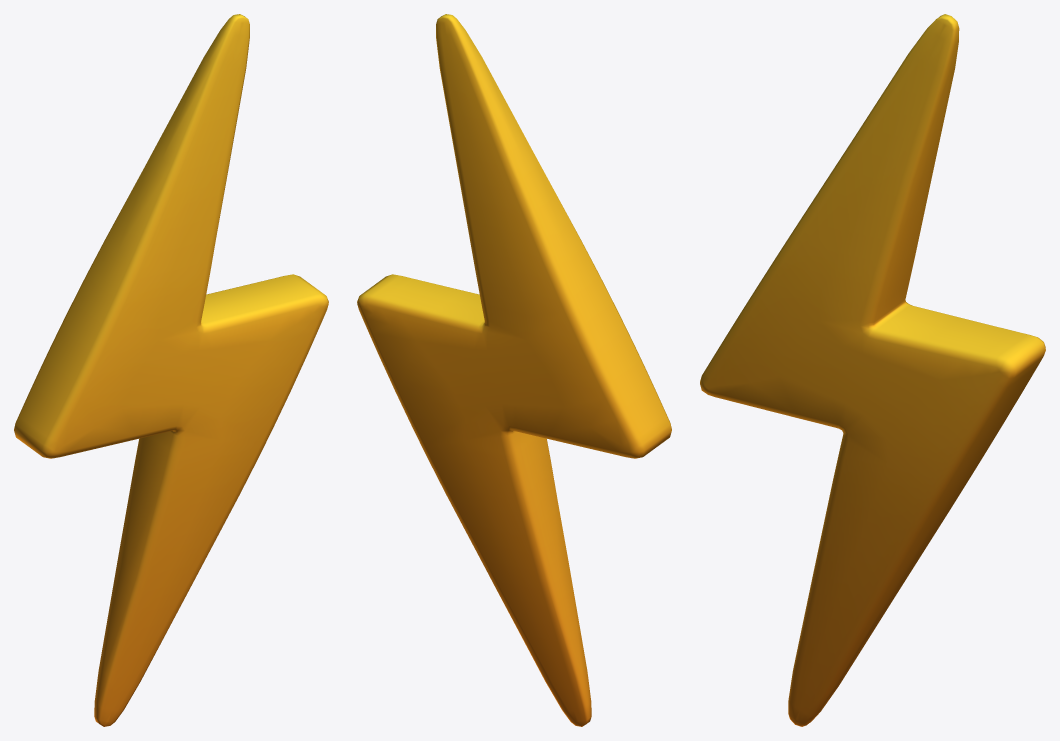
File: bolt.glb
3 views of the same model, side by side, from view 1: azimuth 30°, elevation 25°; view 2: azimuth 150°, elevation 25°; view 3: azimuth 330°, elevation 25° (orthographic). The views are drawn at different scales.
Parts seen in each view (by area): view 1: LightningSymbol.001; view 2: LightningSymbol.001; view 3: LightningSymbol.001.
Boxes of the visible parts, x1=… form: LightningSymbol.001: x1=14, y1=14, x2=328, y2=726; LightningSymbol.001: x1=357, y1=14, x2=671, y2=726; LightningSymbol.001: x1=700, y1=14, x2=1045, y2=726.
Size of the model in its own units: 2.28 by 5.12 by 0.5118.
1 material, 1 textured.
